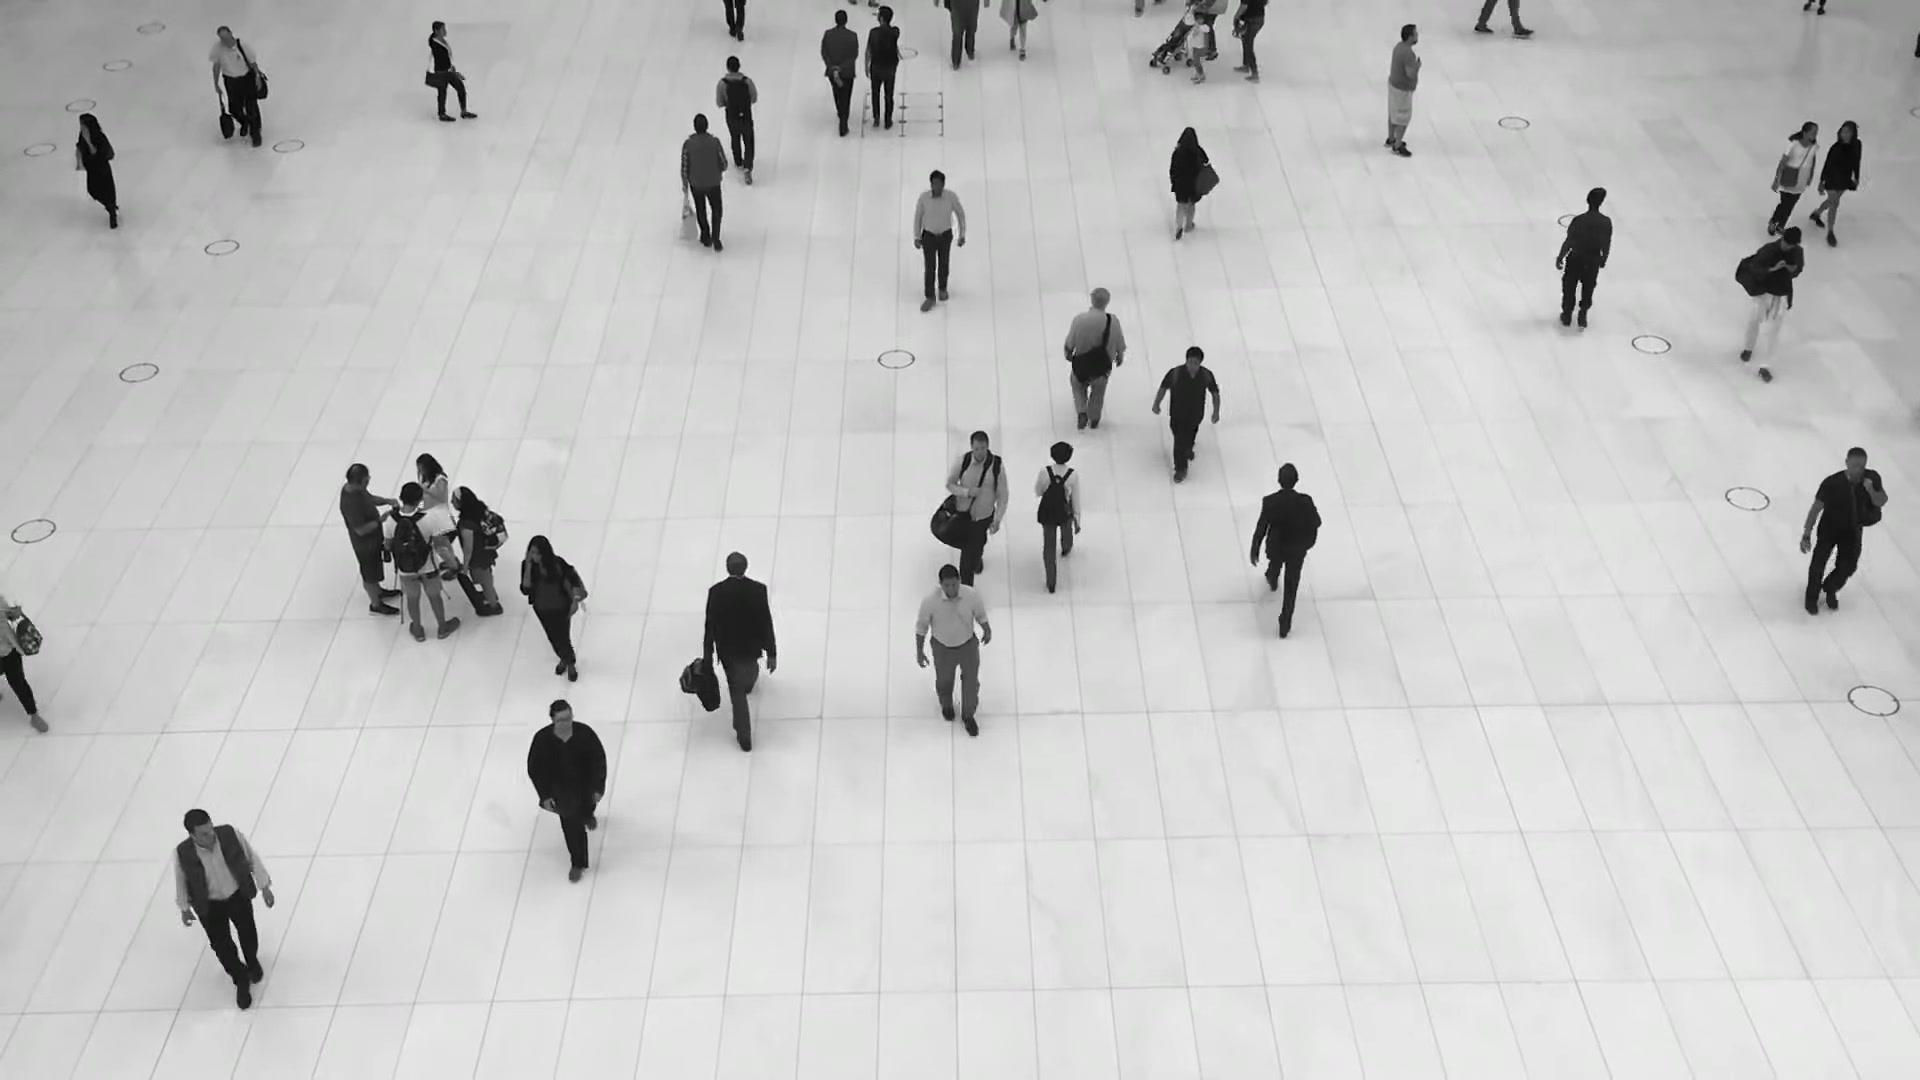person: (172, 815, 274, 1021), (1798, 451, 1887, 634), (525, 697, 611, 869), (704, 547, 779, 740), (915, 567, 993, 748), (1247, 460, 1321, 631), (382, 481, 458, 641), (519, 538, 592, 696), (1736, 227, 1805, 379), (944, 428, 1009, 591), (1061, 288, 1125, 442), (338, 463, 400, 615), (1555, 188, 1613, 337), (1156, 346, 1217, 479), (1032, 439, 1083, 589), (912, 171, 964, 317), (678, 114, 729, 257), (450, 485, 503, 616), (207, 26, 261, 151), (1165, 127, 1217, 242), (1813, 119, 1862, 244), (1763, 121, 1818, 230), (425, 21, 481, 121), (715, 53, 759, 178), (415, 452, 459, 580), (74, 111, 119, 229), (1383, 23, 1421, 157), (818, 9, 857, 138), (861, 7, 898, 133), (1184, 12, 1211, 84)
